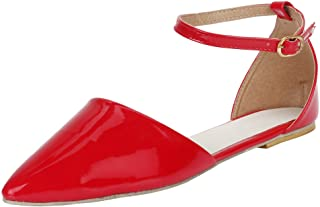shoes: (1, 1, 320, 204)
